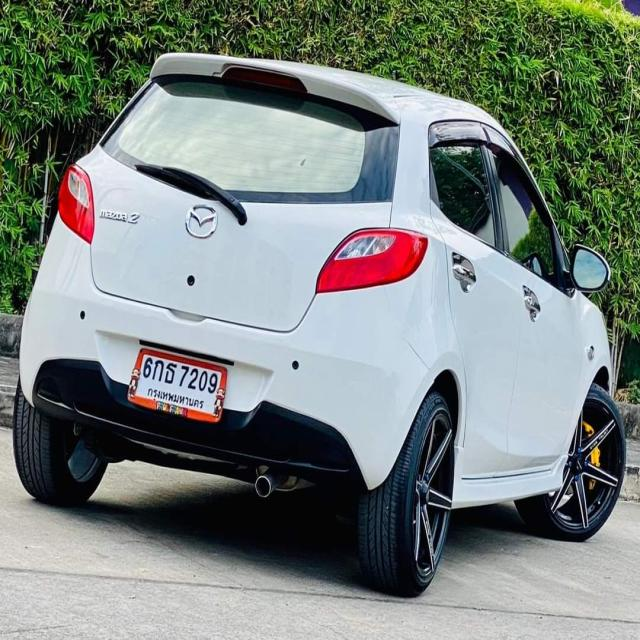license_plate: (128, 340, 229, 424)
